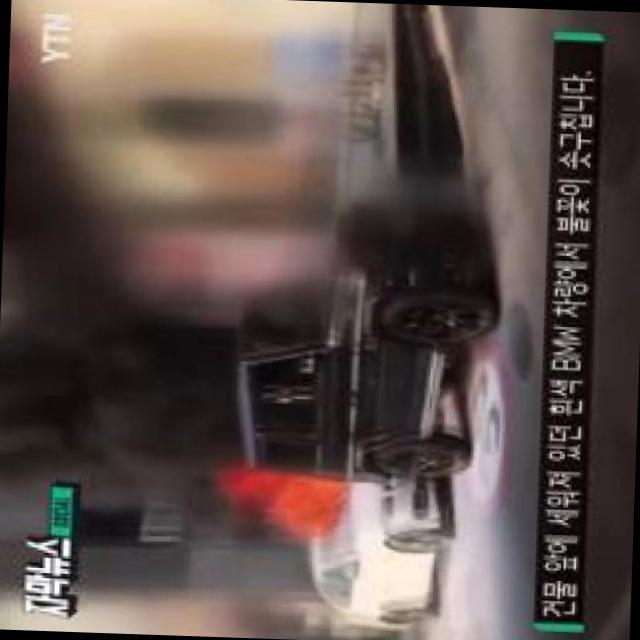Fire: (277, 477, 346, 530)
